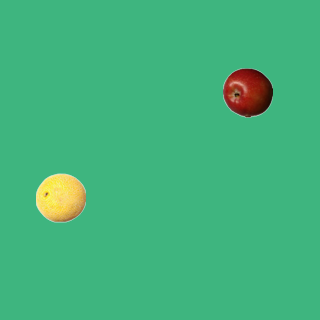Apple Braeburn: (222, 67, 272, 117)
Cantaloupe 1: (35, 172, 85, 222)
